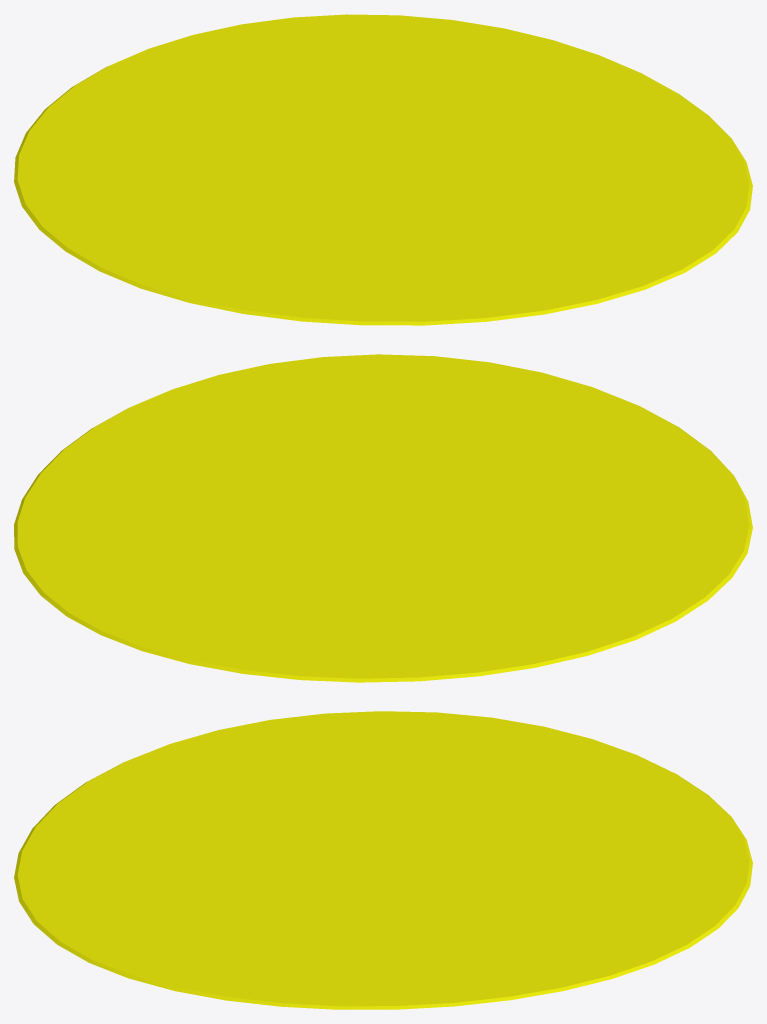
Rendered from LivingRoom_SquareCarpet.fbx.
The picture shows the model from 3 angles, top to bottom: view 1: azimuth 30°, elevation 25°; view 2: azimuth 150°, elevation 25°; view 3: azimuth 270°, elevation 25°; orthographic projection. The views are drawn at different scales.
Visible parts, largest first — view 1: SquareCarpet_LR; view 2: SquareCarpet_LR; view 3: SquareCarpet_LR.
Part boxes in pixels (<box>): SquareCarpet_LR: <box>14,14,752,325</box>; SquareCarpet_LR: <box>14,354,752,682</box>; SquareCarpet_LR: <box>14,711,752,1009</box>.
Bounding box in the file's own units: 700 × 2.4 × 734.
